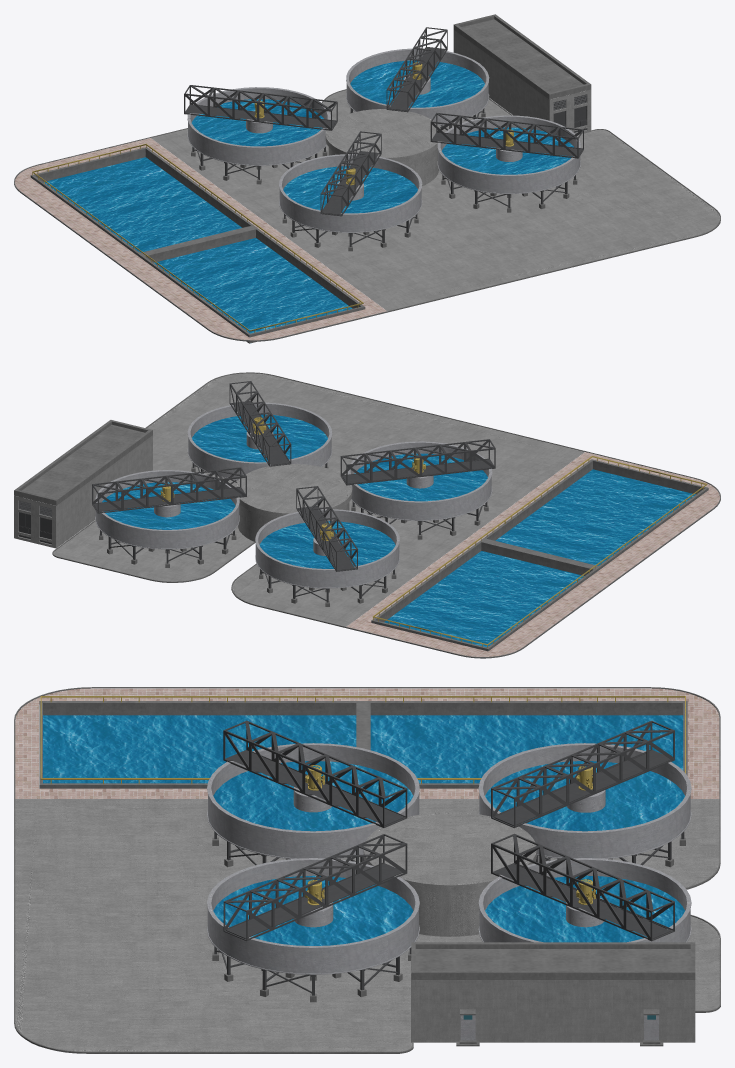
The model's file is 尾矿池单独场景.glb.
3 renders of one model, top to bottom at view 1: azimuth 30°, elevation 25°; view 2: azimuth 150°, elevation 25°; view 3: azimuth 270°, elevation 25°, orthographic. The views are drawn at different scales.
Visible parts, largest first — view 1: 絮凝剂间02, 絮凝剂间03, 絮凝剂间07, 絮凝剂间05, 絮凝剂间00, 絮凝剂间08, 絮凝剂间11, 絮凝剂间09, 絮凝剂间12, 絮凝剂间04; view 2: 絮凝剂间02, 絮凝剂间03, 絮凝剂间07, 絮凝剂间05, 絮凝剂间00, 絮凝剂间08, 絮凝剂间12, 絮凝剂间11, 絮凝剂间09, 絮凝剂间04; view 3: 絮凝剂间02, 絮凝剂间03, 絮凝剂间07, 絮凝剂间05, 絮凝剂间00, 絮凝剂间08, 絮凝剂间11, 絮凝剂间09, 絮凝剂间12, 絮凝剂间04.
Part boxes in pixels (left/top/right/bottom): 絮凝剂间02: left=151, top=30, right=719, bottom=310; 絮凝剂间03: left=43, top=60, right=484, bottom=333; 絮凝剂间07: left=14, top=14, right=720, bottom=343; 絮凝剂间05: left=187, top=48, right=489, bottom=232; 絮凝剂间00: left=184, top=27, right=586, bottom=246; 絮凝剂间08: left=15, top=138, right=386, bottom=340; 絮凝剂间11: left=437, top=115, right=580, bottom=194; 絮凝剂间09: left=430, top=112, right=583, bottom=208; 絮凝剂间12: left=442, top=127, right=573, bottom=174; 絮凝剂间04: left=32, top=62, right=422, bottom=332; 絮凝剂间02: left=14, top=373, right=584, bottom=626; 絮凝剂间03: left=102, top=453, right=695, bottom=647; 絮凝剂间07: left=14, top=372, right=720, bottom=658; 絮凝剂间05: left=95, top=441, right=492, bottom=588; 絮凝剂间00: left=18, top=439, right=495, bottom=602; 絮凝剂间08: left=346, top=452, right=719, bottom=656; 絮凝剂间12: left=192, top=414, right=327, bottom=462; 絮凝剂间11: left=187, top=402, right=332, bottom=480; 絮凝剂间09: left=192, top=381, right=327, bottom=484; 絮凝剂间04: left=160, top=456, right=707, bottom=648; 絮凝剂间02: left=15, top=799, right=719, bottom=1051; 絮凝剂间03: left=43, top=715, right=684, bottom=942; 絮凝剂间07: left=14, top=687, right=720, bottom=1053; 絮凝剂间05: left=207, top=743, right=691, bottom=1040; 絮凝剂间00: left=214, top=720, right=684, bottom=941; 絮凝剂间08: left=15, top=688, right=719, bottom=798; 絮凝剂间11: left=207, top=858, right=419, bottom=974; 絮凝剂间09: left=214, top=834, right=411, bottom=995; 絮凝剂间12: left=213, top=875, right=413, bottom=945; 絮凝剂间04: left=40, top=696, right=685, bottom=904.
Size of the model in its own units: 89.82 by 10.94 by 73.49.
8 materials, 8 textured.
